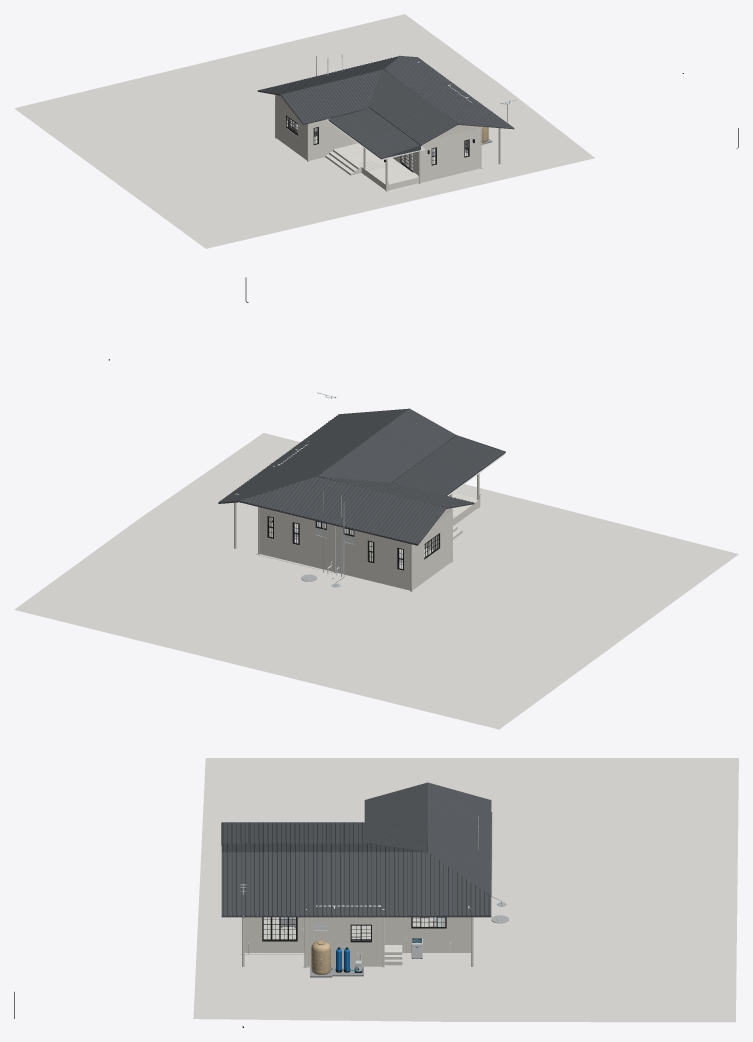
File: house-v413-e901fc04130d.glb
The picture shows the model from 3 angles, top to bottom: view 1: azimuth 30°, elevation 25°; view 2: azimuth 150°, elevation 25°; view 3: azimuth 270°, elevation 25°; orthographic projection. The views are drawn at different scales.
Parts seen in each view (by area): view 1: site_xcqfx3ldie6e0lfq, d, c, b, slab_ml0yinv0445zy6c4, merged-roof.001, ผนังนอก_ใต้_นั่งเล่น, a, ผนังนอก_ตะวันตก_นอน1, ผนังนอก_ใต้_นอน1, merged-stair.001; view 2: site_xcqfx3ldie6e0lfq, a, d, ผนังนอก_เหนือ_นอน1+น้ำ1+น้ำ2+นอน2, c, merged-roof.001, slab_ml0yinv0445zy6c4, b, ผนังนอก_ตะวันตก_นอน1; view 3: site_xcqfx3ldie6e0lfq, d, a, b, merged-roof.001, slab_ml0yinv0445zy6c4, ผนังนอก_ตะวันออก_เก็บของ+นั่งเล่น, ผนังนอก_ตะวันออก_นอน2, c, ผนังนอก_ตะวันออก_นั่งเล่น, ถังน้ำดี1000_ตัวถัง.
Boxes of the visible parts, x1,y1,x2,y2 form: site_xcqfx3ldie6e0lfq: (14, 14, 594, 248); d: (384, 55, 514, 129); c: (368, 69, 457, 145); b: (280, 69, 383, 124); slab_ml0yinv0445zy6c4: (276, 132, 480, 190); merged-roof.001: (328, 108, 421, 159); ผนังนอก_ใต้_นั่งเล่น: (421, 128, 480, 176); a: (257, 55, 399, 95); ผนังนอก_ตะวันตก_นอน1: (276, 97, 306, 154); ผนังนอก_ใต้_นอน1: (309, 119, 336, 154); merged-stair.001: (325, 148, 361, 175); site_xcqfx3ldie6e0lfq: (14, 433, 738, 729); a: (239, 476, 446, 545); d: (218, 408, 409, 503); ผนังนอก_เหนือ_นอน1+น้ำ1+น้ำ2+นอน2: (259, 507, 409, 583); c: (318, 409, 456, 482); merged-roof.001: (392, 435, 505, 495); slab_ml0yinv0445zy6c4: (259, 493, 479, 590); b: (318, 476, 474, 508); ผนังนอก_ตะวันตก_นอน1: (413, 511, 451, 582); site_xcqfx3ldie6e0lfq: (193, 758, 738, 1022); d: (221, 852, 491, 917); a: (427, 782, 491, 896); b: (364, 782, 427, 851); merged-roof.001: (221, 822, 364, 845); slab_ml0yinv0445zy6c4: (244, 917, 470, 966); ผนังนอก_ตะวันออก_เก็บของ+นั่งเล่น: (306, 917, 382, 958); ผนังนอก_ตะวันออก_นอน2: (384, 917, 470, 944); c: (221, 843, 426, 852); ผนังนอก_ตะวันออก_นั่งเล่น: (244, 917, 304, 944); ถังน้ำดี1000_ตัวถัง: (311, 941, 330, 974).
Bounding box in the file's own units: 44.31 × 7.48 × 40.78.
Materials: 157 (49 with a texture image).
